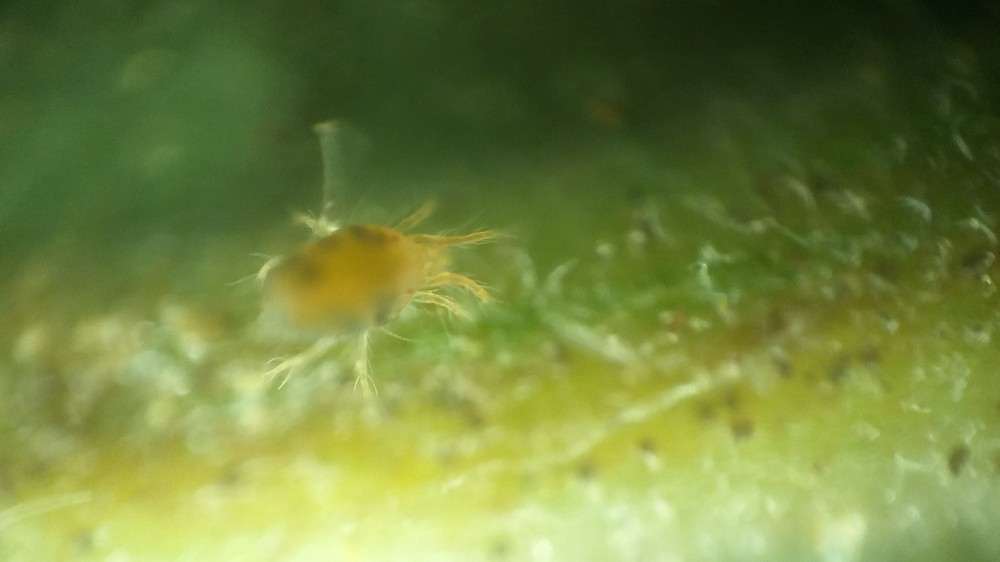Aracnido Rojo: (228, 175, 509, 390)
